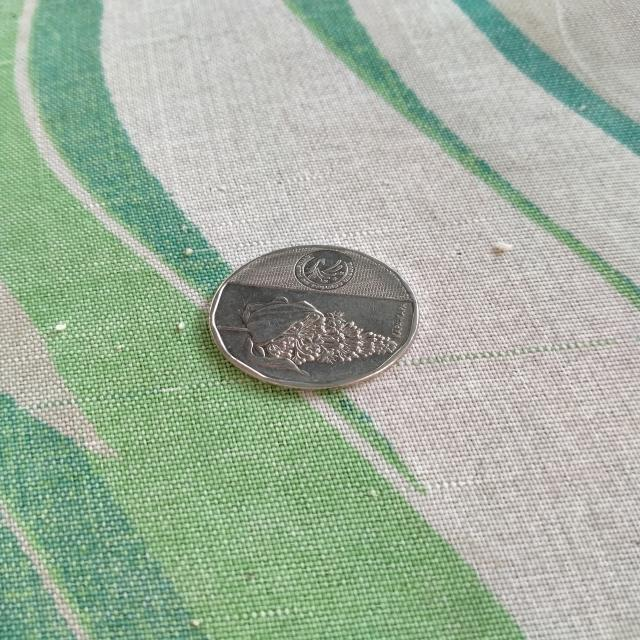10_New_Back: (215, 286, 412, 370)
